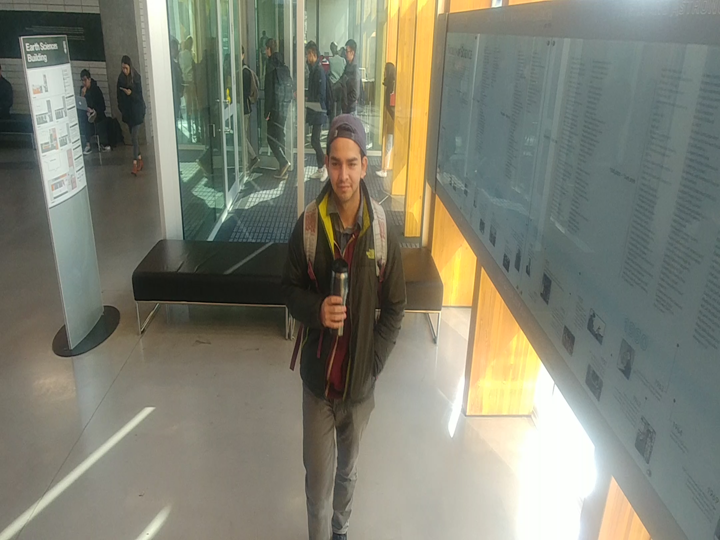face: (316, 108, 374, 206), (339, 34, 364, 65), (114, 49, 138, 80), (261, 30, 285, 61), (375, 58, 397, 85), (74, 66, 96, 89), (304, 39, 321, 66)
human: (274, 110, 413, 540), (256, 34, 295, 180), (113, 53, 152, 180), (302, 36, 329, 184), (73, 66, 111, 157), (331, 37, 366, 117), (374, 58, 397, 179)
